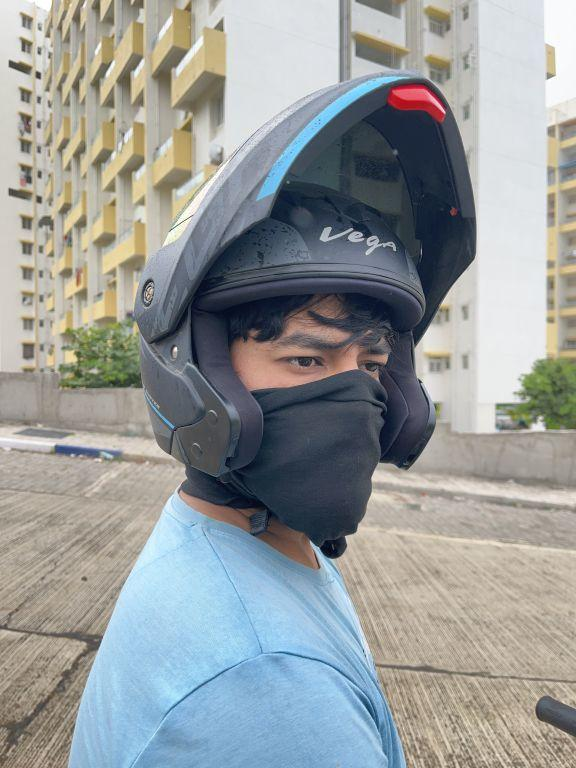helmet: (130, 54, 488, 566)
